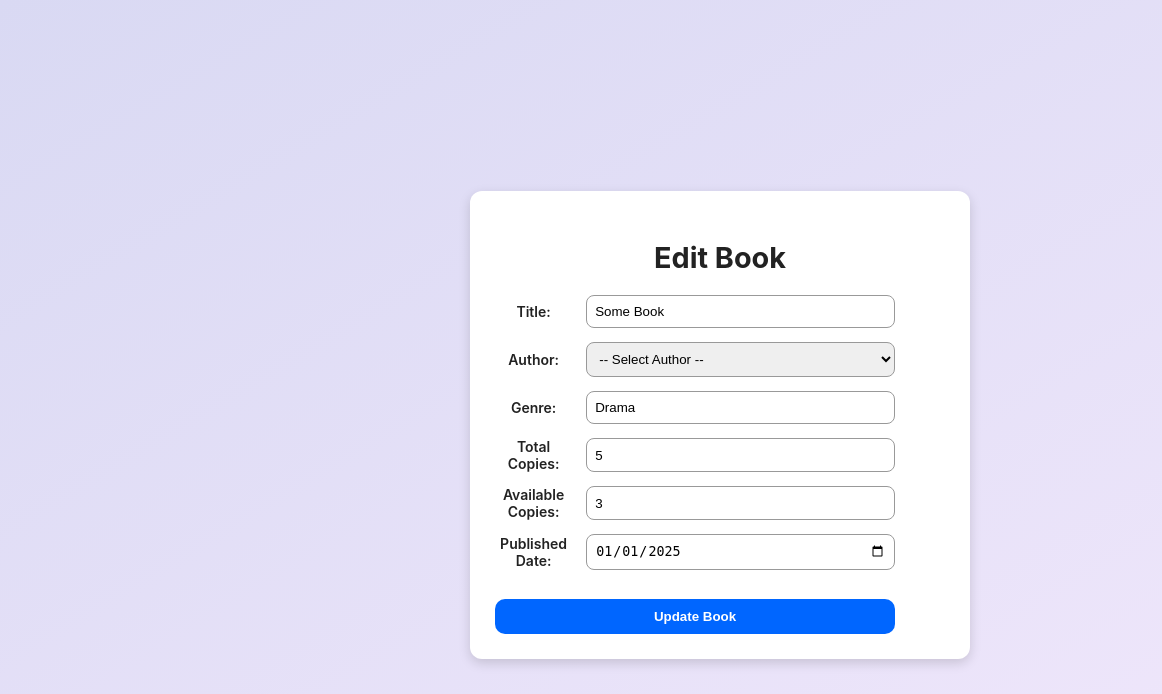
Test: BookForm Behavior Tests › availableCopies adjustment correctly when totalCopies changes
The width and height of the screenshot is (1162, 694).
Replace the text in the number field labelled "Total Copies:" with "7": (741,455) [586,438,895,472]
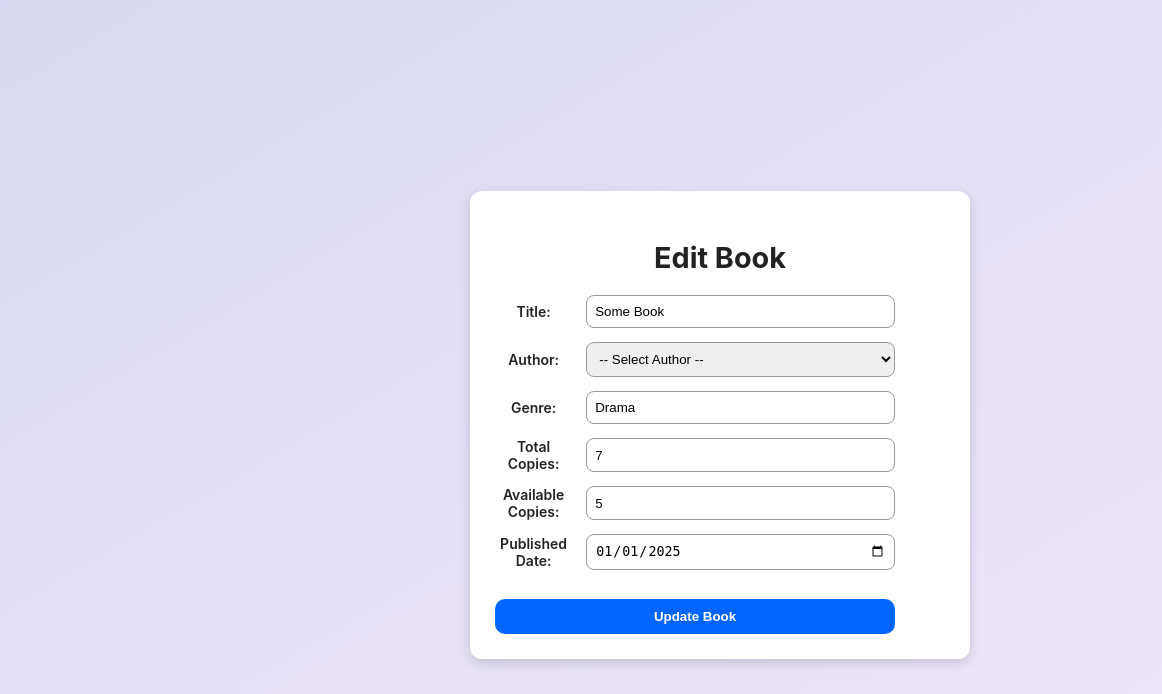
Expected: the number field labelled "Available Copies:" holds "5", [586,486,895,520]
